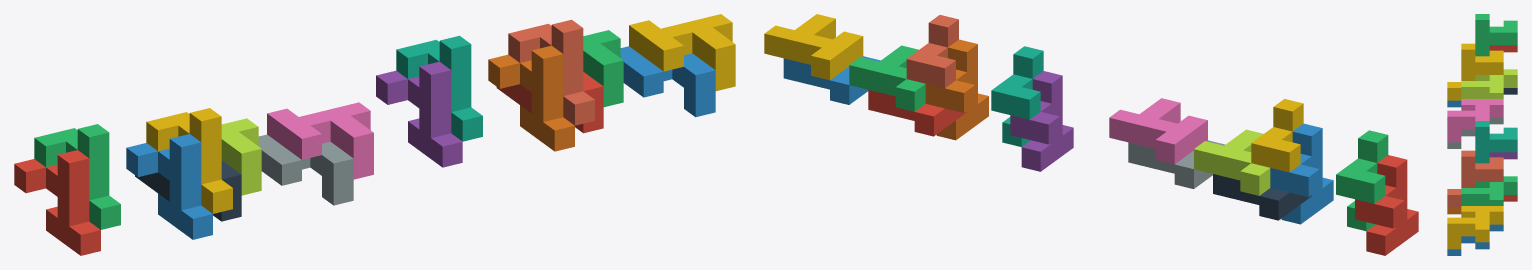
File: tiling.obj
3 renders of one model, left to right at view 1: azimuth 30°, elevation 25°; view 2: azimuth 150°, elevation 25°; view 3: azimuth 270°, elevation 25°, orthographic. The views are drawn at different scales.
Parts seen in each view (by area): view 1: copy_1_domain_5, copy_1_domain_1, copy_1_domain_2, copy_1_domain_6, copy_2_domain_8, copy_2_domain_4, copy_1_domain_3, copy_1_domain_4, copy_1_domain_7, copy_1_domain_8, copy_2_domain_6, copy_2_domain_2 (+4 smaller); view 2: copy_2_domain_8, copy_2_domain_4, copy_1_domain_5, copy_1_domain_1, copy_1_domain_2, copy_1_domain_6, copy_1_domain_7, copy_1_domain_3, copy_2_domain_3, copy_2_domain_7, copy_1_domain_4, copy_1_domain_8 (+4 smaller); view 3: copy_2_domain_8, copy_2_domain_4, copy_1_domain_8, copy_1_domain_4, copy_1_domain_3, copy_1_domain_7, copy_2_domain_3, copy_2_domain_7, copy_2_domain_6, copy_2_domain_2, copy_1_domain_1, copy_1_domain_5 (+4 smaller).
Part boxes in pixels (left/top/right/bottom): copy_1_domain_5: left=376, top=61, right=462, bottom=167; copy_1_domain_1: left=14, top=150, right=100, bottom=255; copy_1_domain_2: left=126, top=134, right=212, bottom=239; copy_1_domain_6: left=488, top=45, right=574, bottom=151; copy_2_domain_8: left=629, top=14, right=735, bottom=91; copy_2_domain_4: left=267, top=102, right=373, bottom=179; copy_1_domain_3: left=34, top=124, right=120, bottom=229; copy_1_domain_4: left=146, top=108, right=232, bottom=213; copy_1_domain_7: left=396, top=35, right=482, bottom=141; copy_1_domain_8: left=508, top=19, right=594, bottom=125; copy_2_domain_6: left=620, top=46, right=715, bottom=117; copy_2_domain_2: left=258, top=134, right=353, bottom=205; copy_2_domain_8: left=764, top=14, right=863, bottom=80; copy_2_domain_4: left=1109, top=98, right=1207, bottom=164; copy_1_domain_5: left=1010, top=71, right=1073, bottom=171; copy_1_domain_1: left=1355, top=155, right=1418, bottom=255; copy_1_domain_2: left=1270, top=123, right=1333, bottom=224; copy_1_domain_6: left=925, top=39, right=988, bottom=140; copy_1_domain_7: left=991, top=46, right=1043, bottom=146; copy_1_domain_3: left=1336, top=130, right=1388, bottom=230; copy_2_domain_3: left=1194, top=129, right=1270, bottom=195; copy_2_domain_7: left=849, top=45, right=925, bottom=111; copy_1_domain_4: left=1251, top=99, right=1303, bottom=172; copy_1_domain_8: left=906, top=15, right=958, bottom=88; copy_2_domain_8: left=1447, top=206, right=1503, bottom=249; copy_2_domain_4: left=1447, top=99, right=1503, bottom=142; copy_1_domain_8: left=1447, top=150, right=1503, bottom=207; copy_1_domain_4: left=1447, top=43, right=1503, bottom=100; copy_1_domain_3: left=1475, top=14, right=1517, bottom=56; copy_1_domain_7: left=1475, top=121, right=1517, bottom=163; copy_2_domain_3: left=1461, top=69, right=1517, bottom=98; copy_2_domain_7: left=1461, top=176, right=1517, bottom=205; copy_2_domain_6: left=1447, top=224, right=1503, bottom=255; copy_2_domain_2: left=1447, top=117, right=1503, bottom=148; copy_1_domain_1: left=1489, top=45, right=1517, bottom=52; copy_1_domain_5: left=1489, top=152, right=1517, bottom=159.
Bounding box in the file's own units: 34 × 5 × 5.
